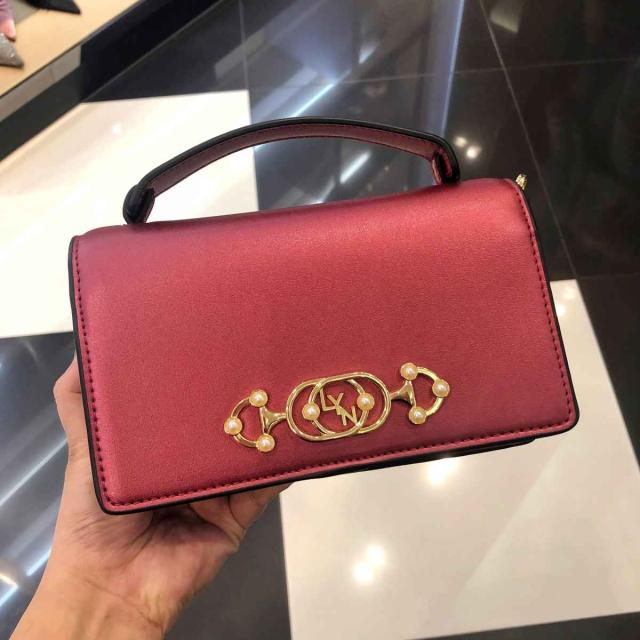handbag: (44, 105, 585, 511)
